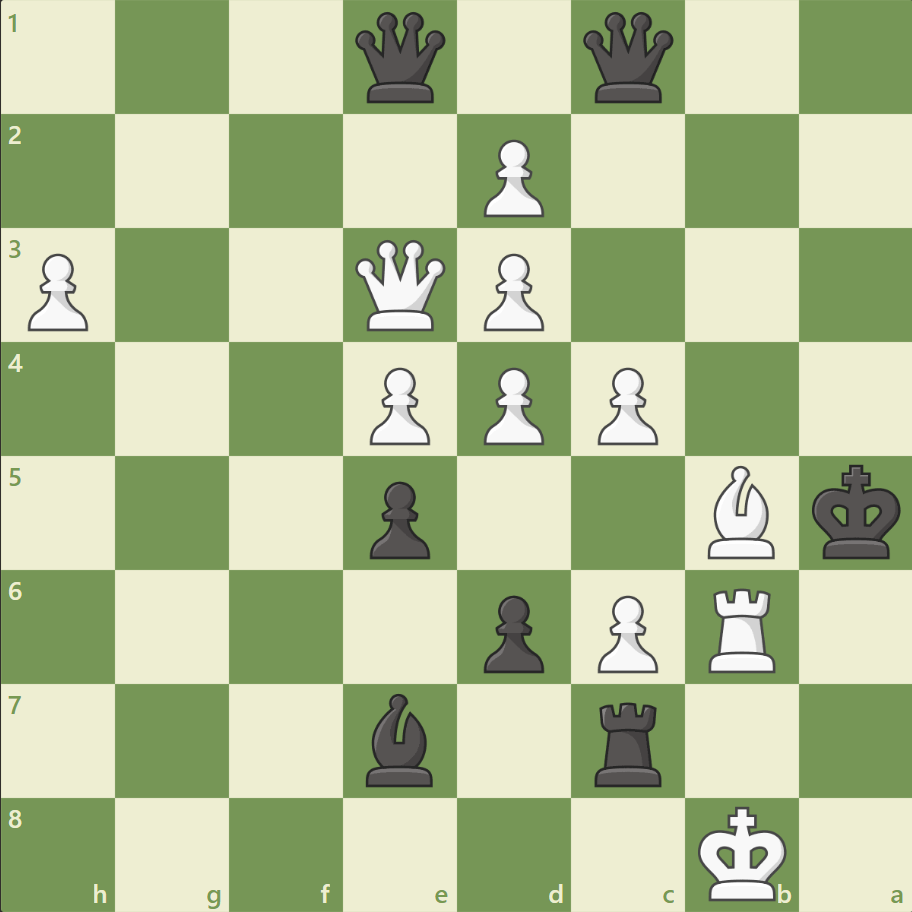B: (698, 460, 782, 563)
K: (692, 798, 792, 906)
P: (474, 359, 549, 450), (474, 246, 549, 337), (20, 246, 95, 337), (474, 132, 549, 223), (588, 586, 662, 677), (588, 359, 662, 450), (361, 359, 435, 450)
Q: (351, 236, 450, 335)
R: (700, 579, 783, 676)
b: (358, 687, 442, 790)
k: (806, 458, 906, 566)
p: (474, 586, 549, 677), (361, 473, 435, 564)
q: (578, 9, 677, 108), (351, 9, 450, 108)
r: (587, 693, 670, 790)
